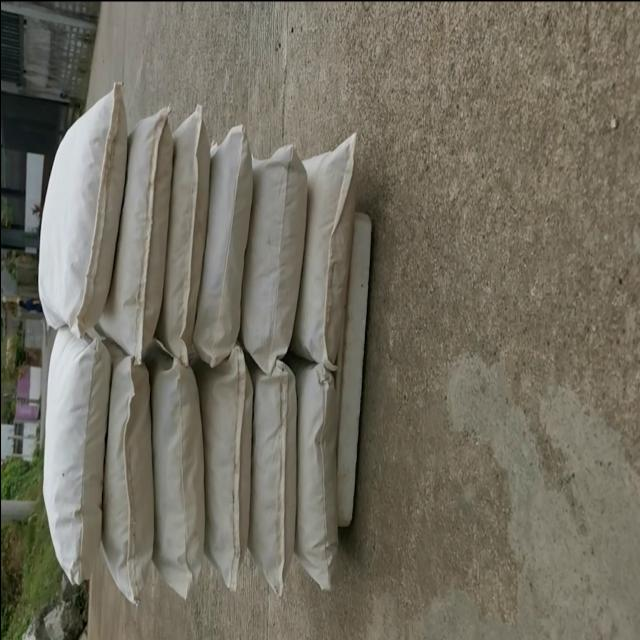Sack: (34, 79, 128, 336), (103, 102, 178, 366), (40, 336, 112, 593), (193, 121, 262, 367), (299, 128, 363, 376), (242, 144, 308, 383), (159, 106, 217, 370), (145, 361, 207, 601), (192, 348, 252, 596), (98, 363, 156, 598), (247, 363, 299, 591), (293, 370, 343, 594)
